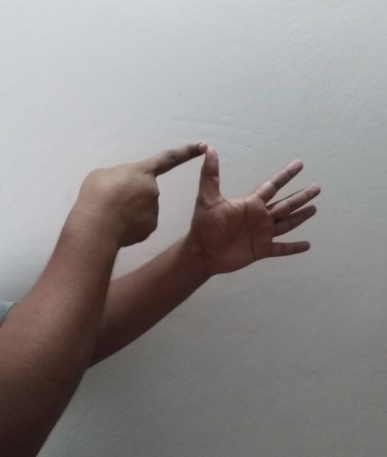a: (73, 140, 323, 297)
